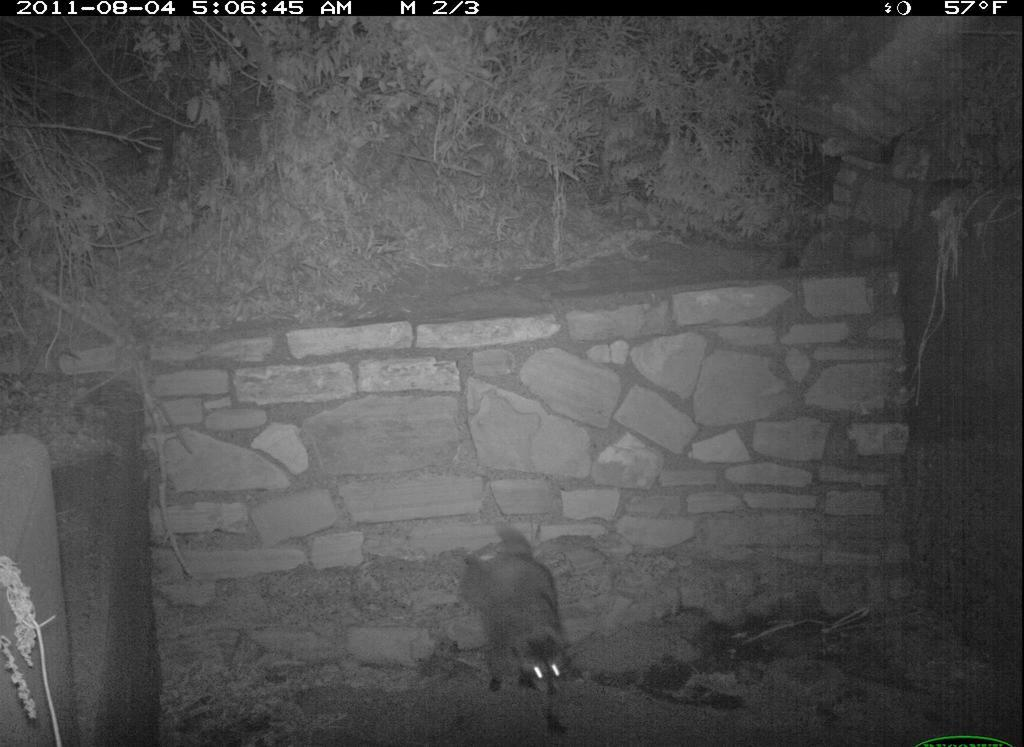raccoon: (410, 478, 620, 731)
